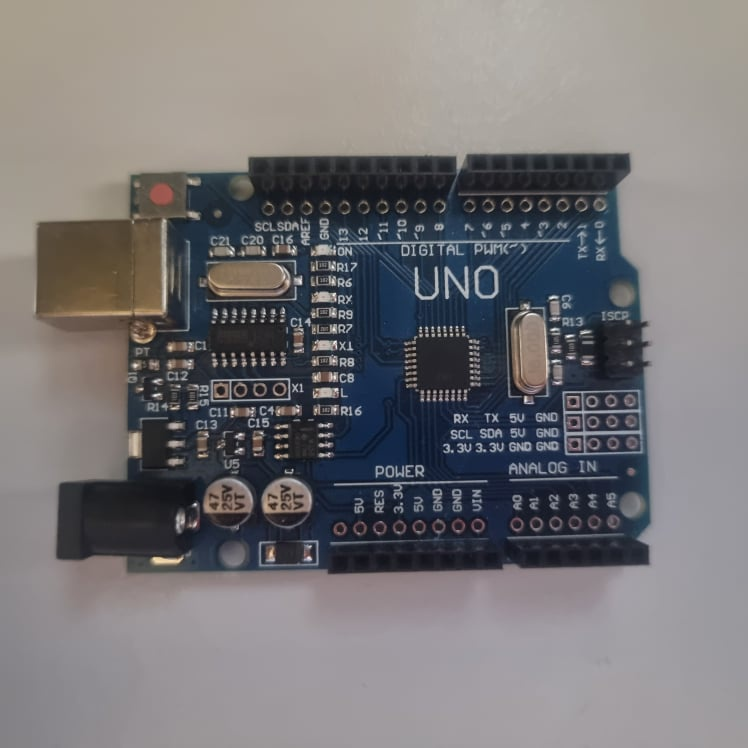UNO R3: (34, 156, 657, 569)
